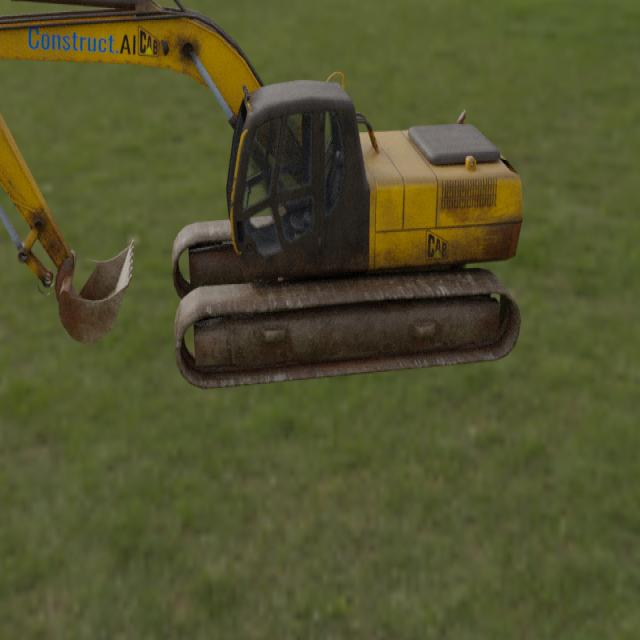excavator: (0, 0, 524, 391)
